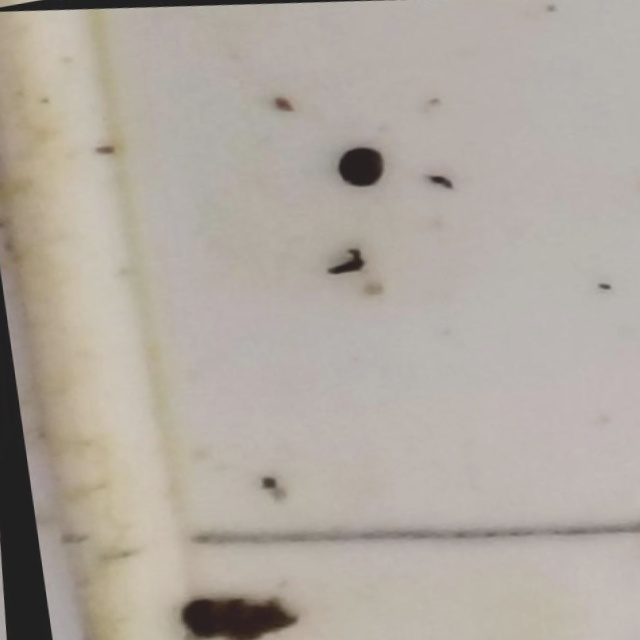varroa: (333, 134, 388, 187)
